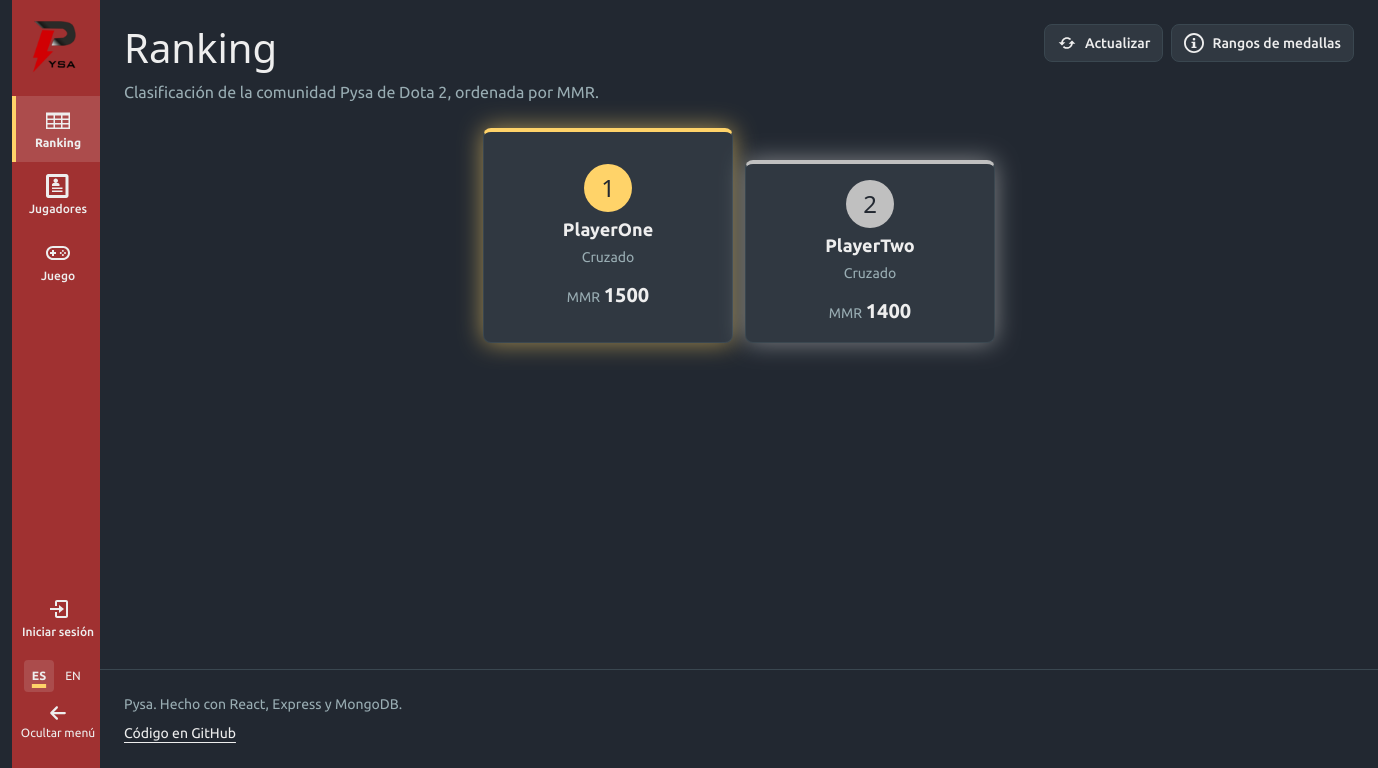
hiding the menu › showing goes back to expanded, stores the choice and moves focus to the hide button
This screenshot has width=1378, height=768.
Check: the text "PlayerOne" is shown, box [563,216,653,243]
Click the button "Ocultar menú" at (56, 722), box [12,692,100,752]
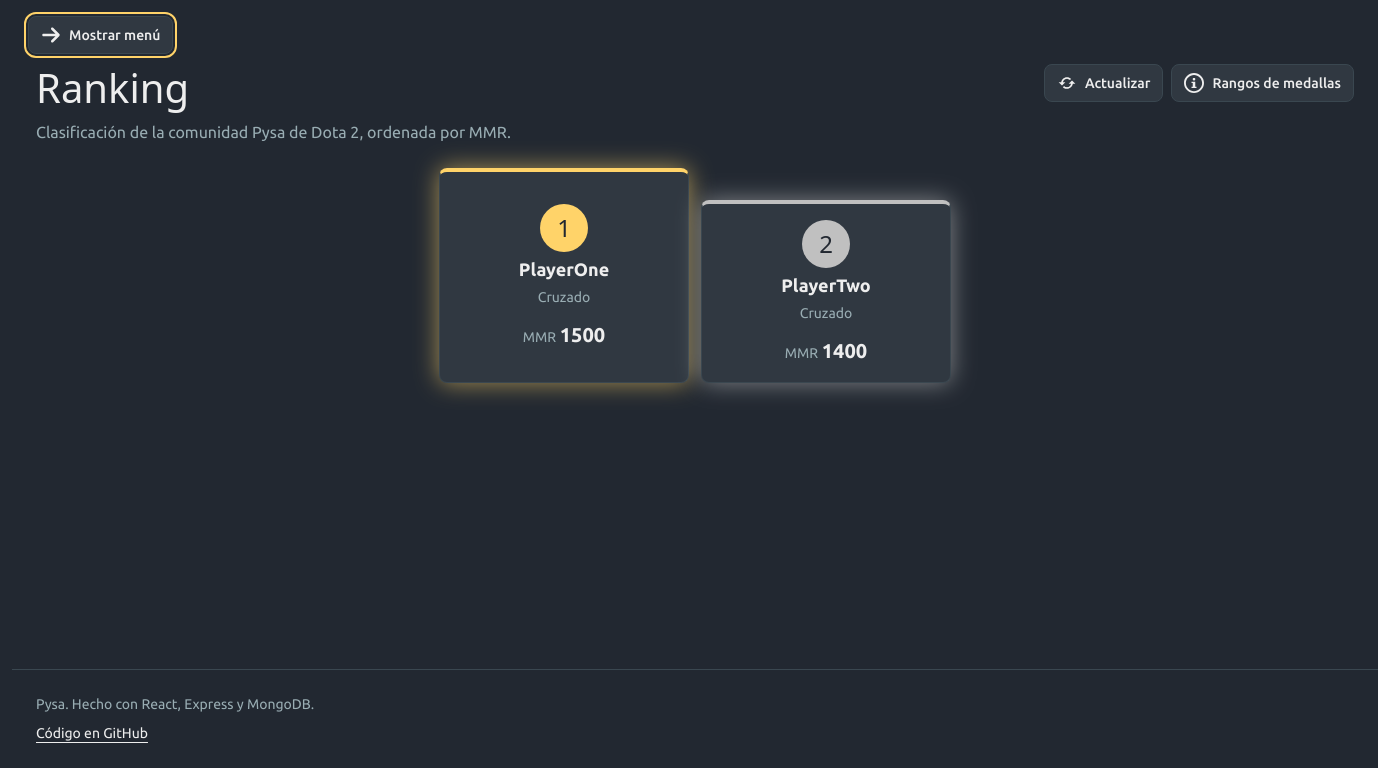
Click the button "Mostrar menú" at (101, 35), box [28,16,174,54]
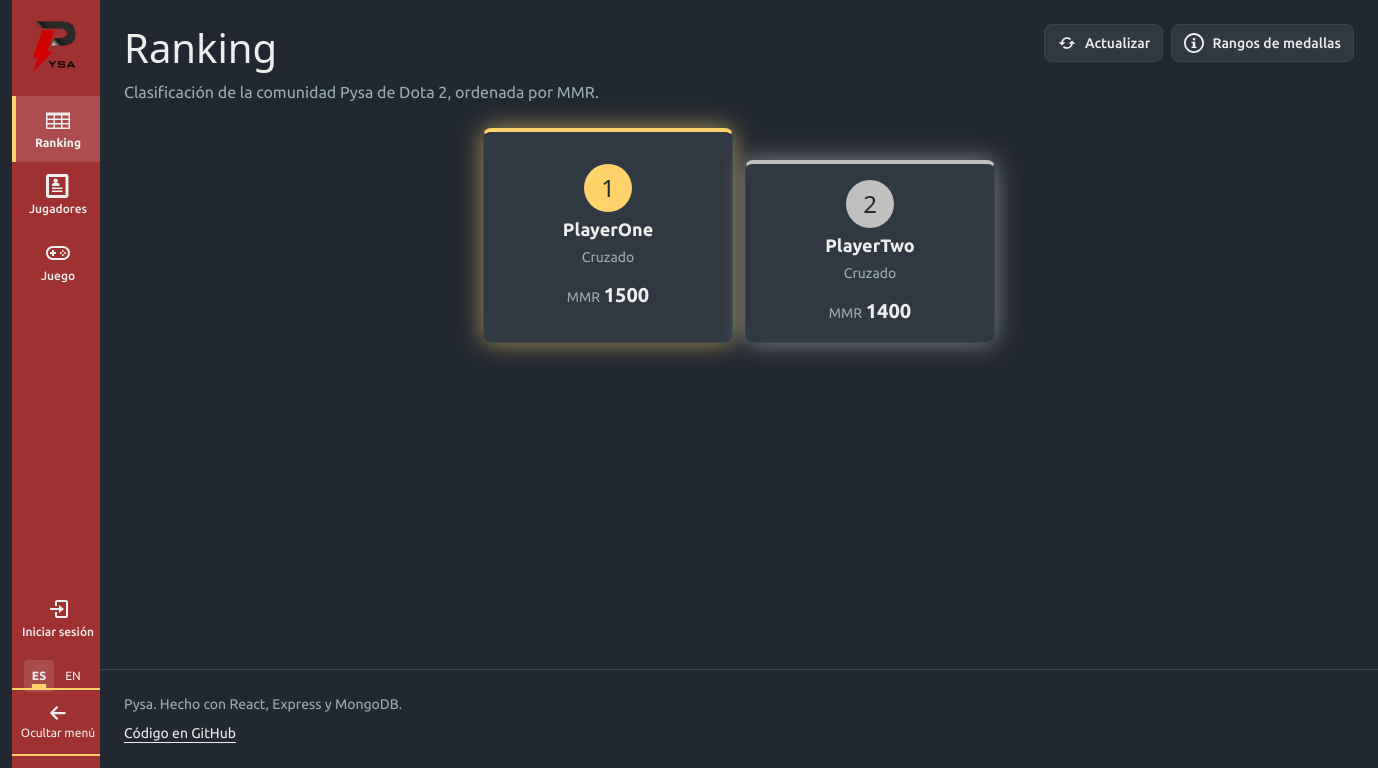
Check: the button "Mostrar menú" is gone
